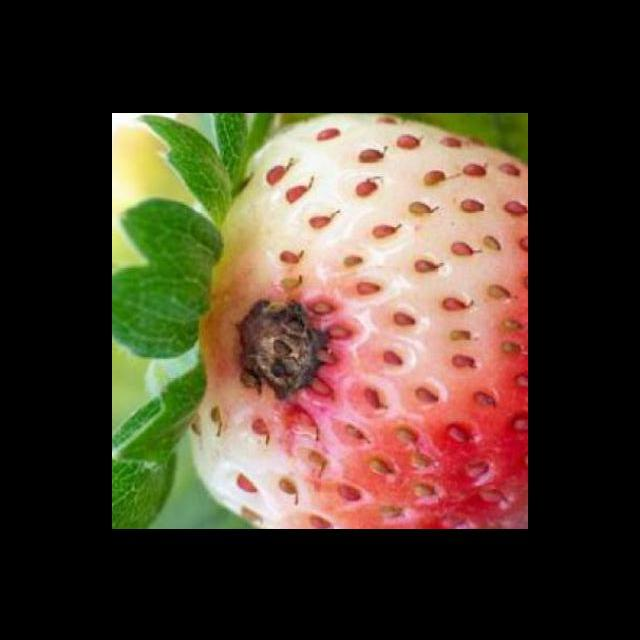Anthracnose Fruit Rot: (217, 270, 352, 420)
